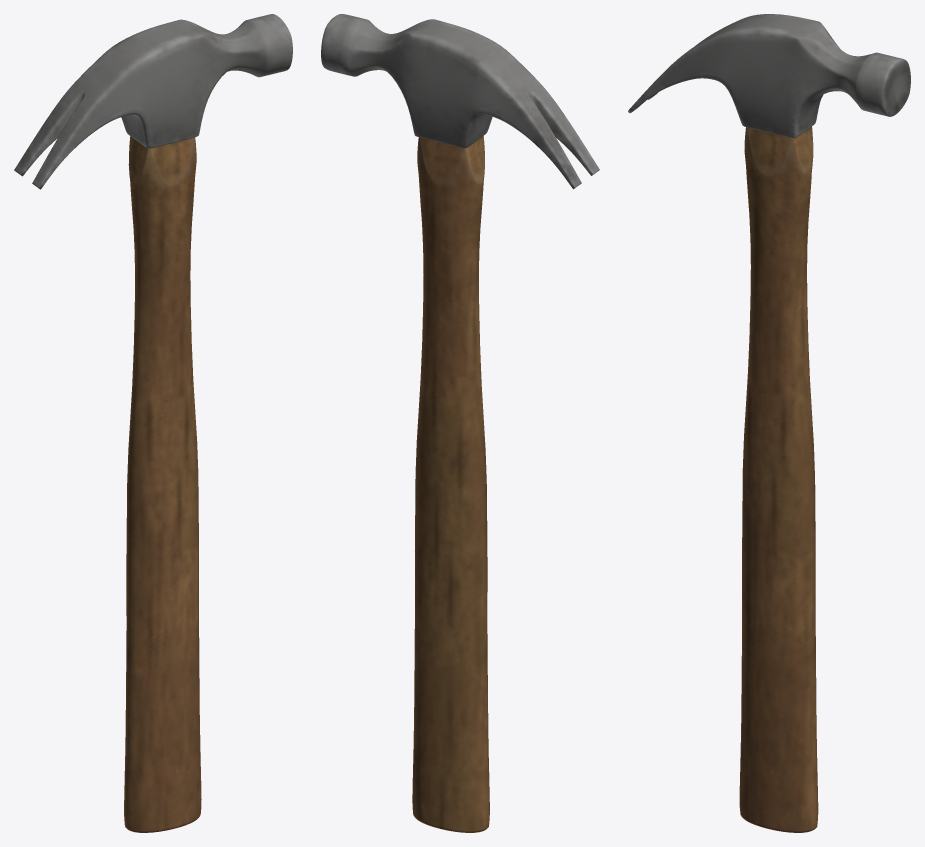
File: hammers.fbx
3 views of the same model, side by side, from view 1: azimuth 30°, elevation 25°; view 2: azimuth 150°, elevation 25°; view 3: azimuth 330°, elevation 25° (orthographic).
Parts seen in each view (by area): view 1: claw_hammer; view 2: claw_hammer; view 3: claw_hammer.
Boxes of the visible parts, x1,y1,x2,y2 form: claw_hammer: (14,14,292,832); claw_hammer: (321,14,599,832); claw_hammer: (628,14,910,832).
Bounding box in the file's own units: 0.1516 × 0.45 × 0.0317.
